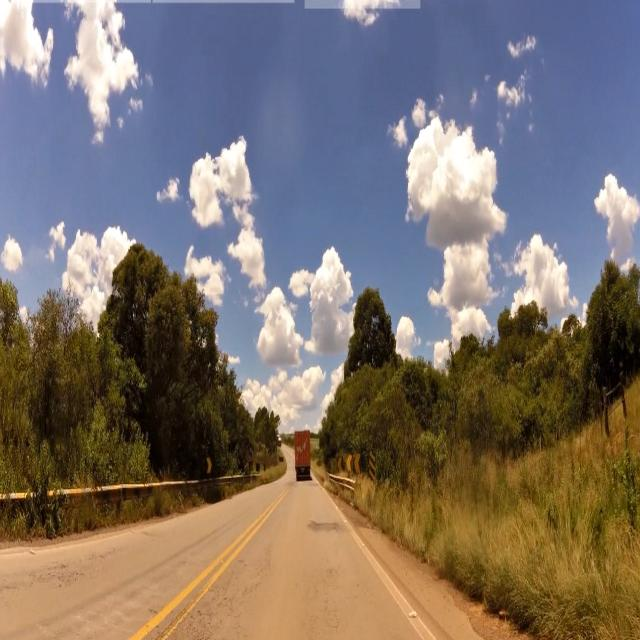MP: (368, 452, 379, 494)
